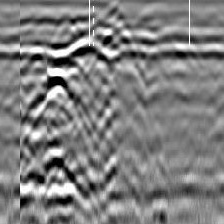Utility: (20, 70, 94, 137), (21, 153, 92, 209)
